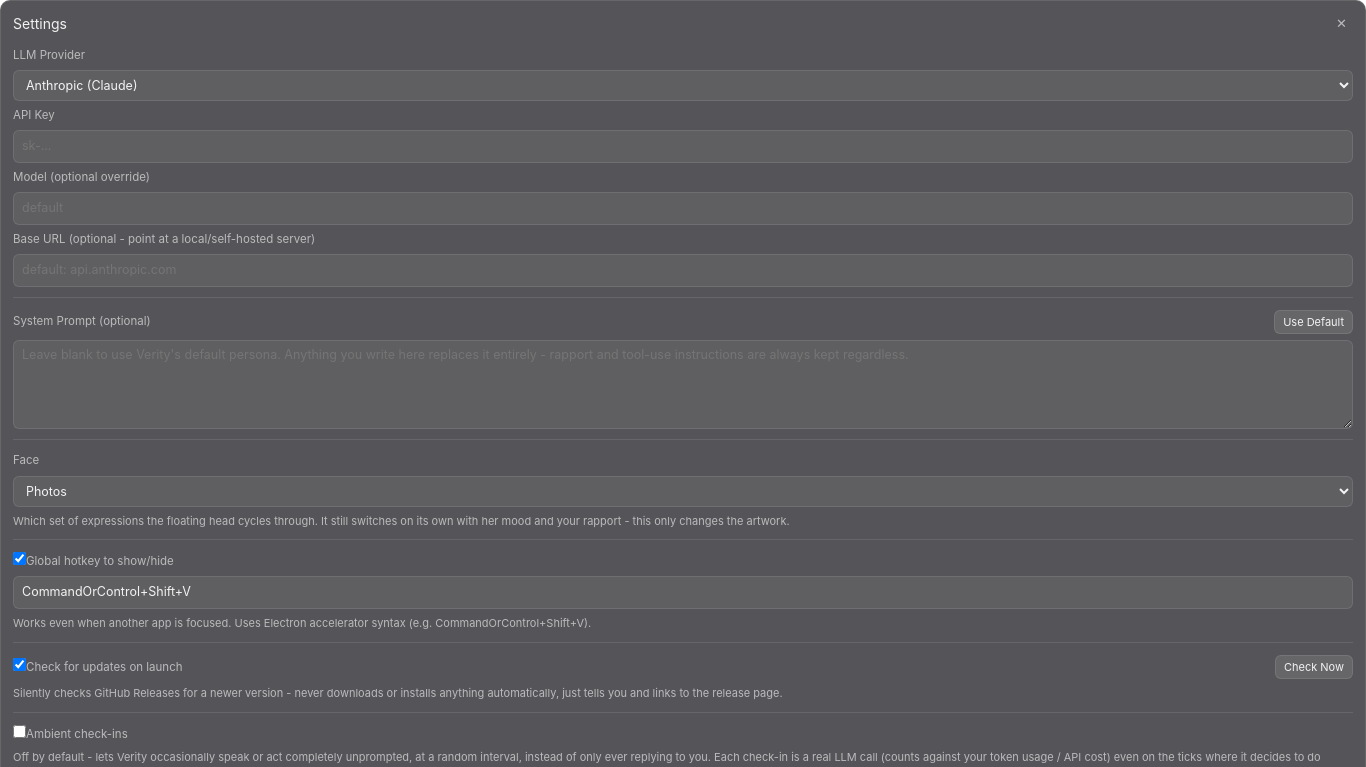
Test: SettingsPanel › auto-update › checks now on click and shows a checking hint
Check: the heading "Settings" is shown, box [13,13,67,34]
Click the button "Check Now" at (1314, 667), box [1275,654,1353,679]
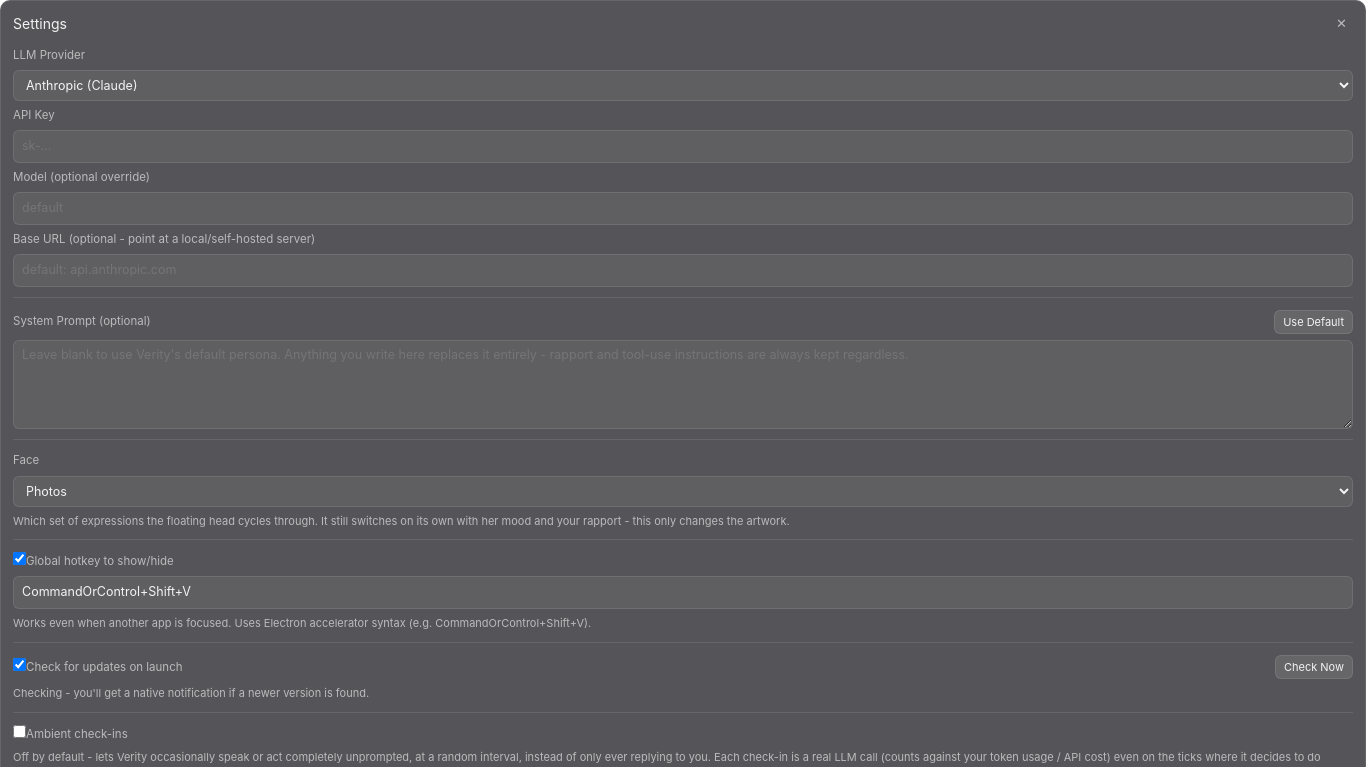
Check: the text "you'll get a native notification" is shown, box [13,686,369,700]
